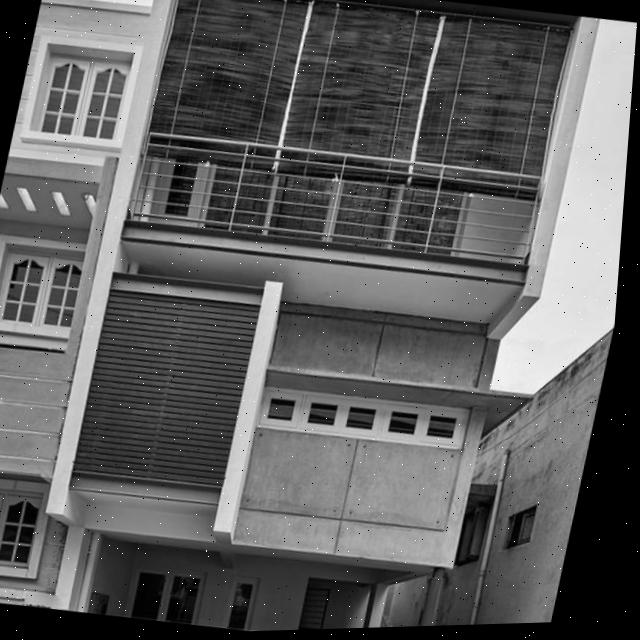building: (17, 0, 602, 638), (0, 0, 171, 610), (444, 292, 617, 625)
